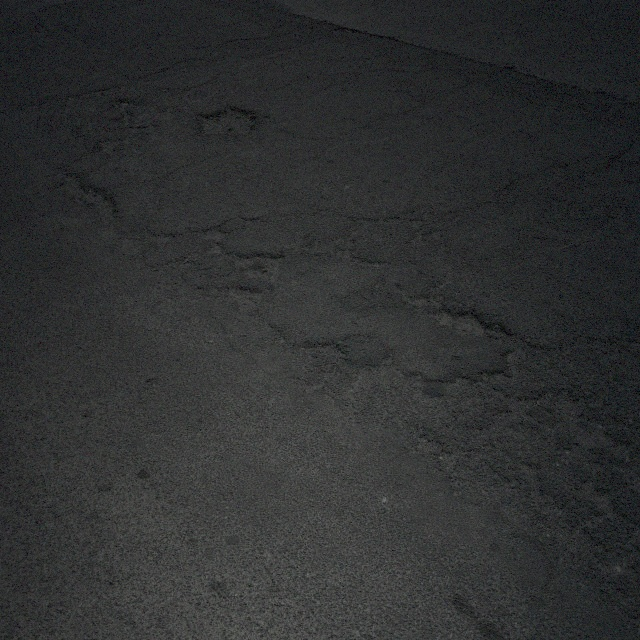pothole: (432, 304, 507, 344), (195, 103, 258, 143), (77, 183, 120, 221), (306, 336, 347, 363), (230, 288, 264, 320), (200, 225, 230, 258), (414, 435, 446, 462), (96, 137, 122, 159), (116, 99, 134, 120), (406, 291, 431, 303)
